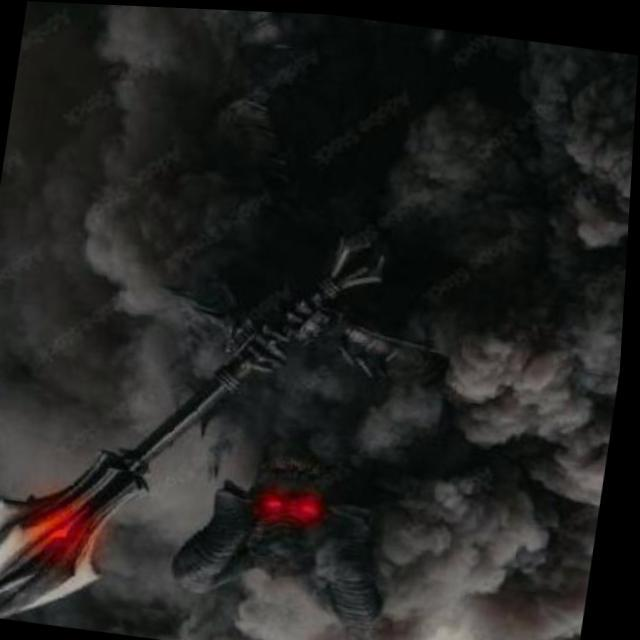weapon: (0, 183, 395, 640)
